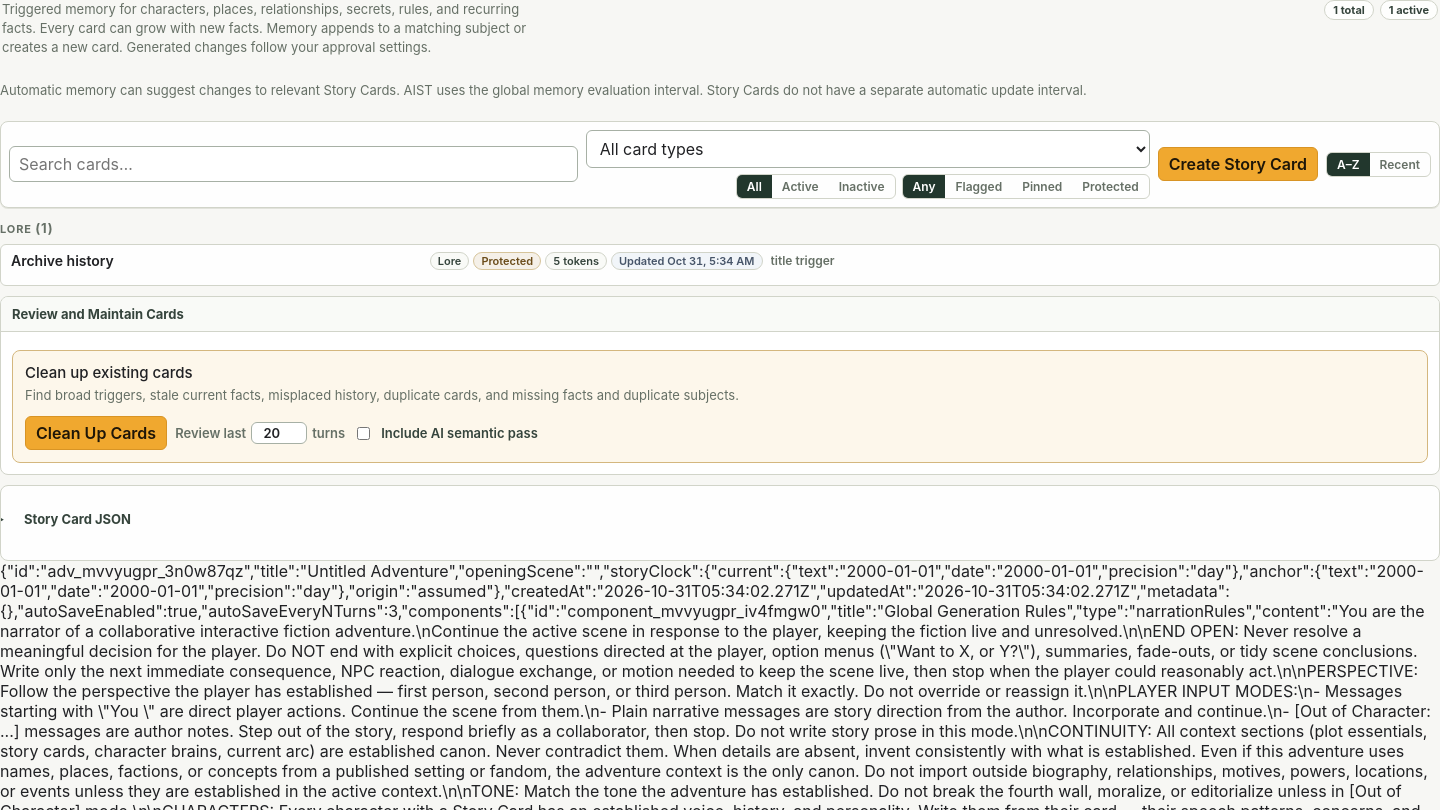
preserves an unapplyable recommendation and explains the missing target
What coordinates should you click on to do the following:
click the button "Clean Up Cards"
I would click on:
 (96, 433)
Its box is left=25, top=416, right=167, bottom=450.
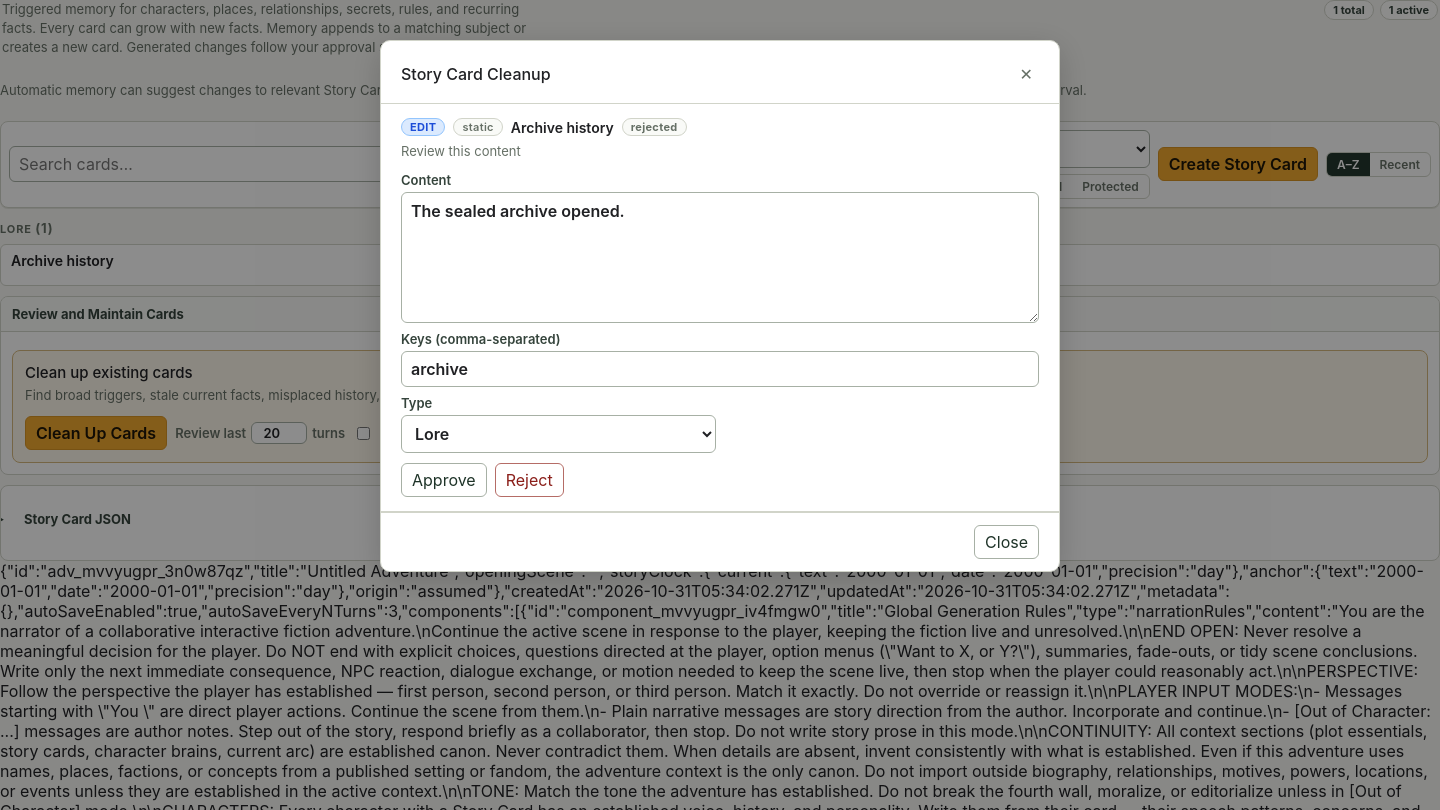
What coordinates should you click on to do the following:
click the button "Approve"
I would click on:
 (444, 480)
Its box is left=401, top=463, right=487, bottom=497.
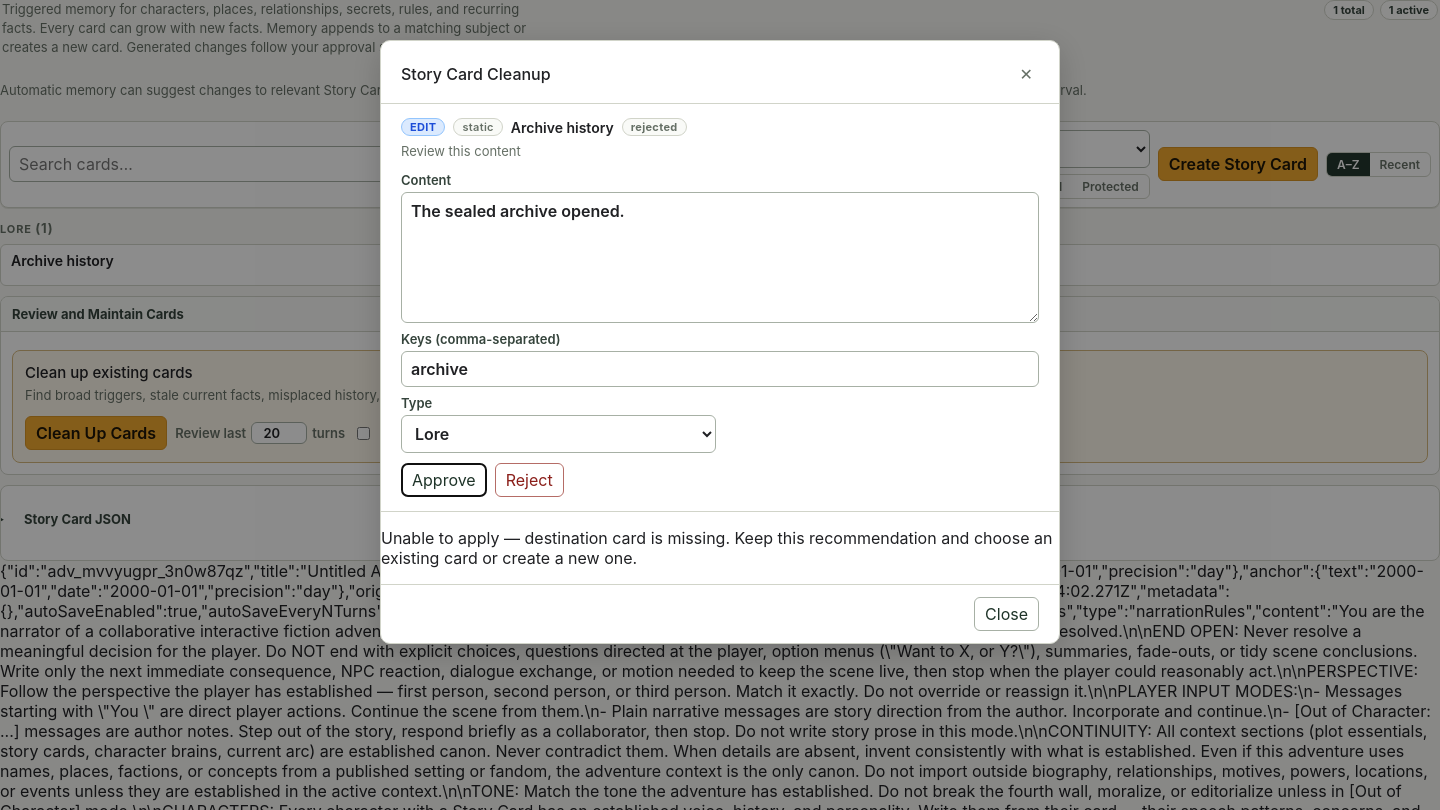
Now the button "Approve" is enabled, box left=401, top=463, right=487, bottom=497
Now the message shows "destination card is missing", box left=381, top=528, right=1052, bottom=568
